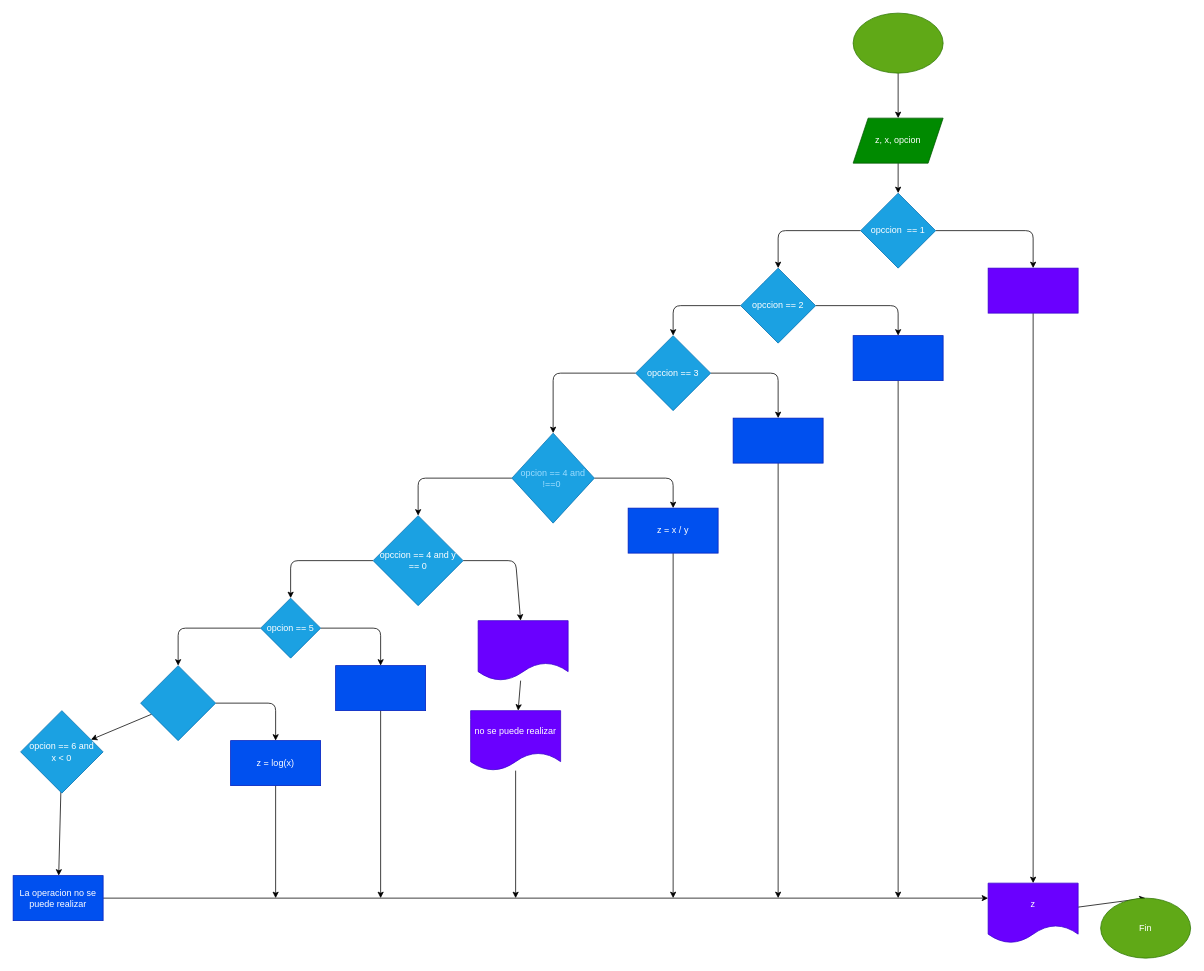
Some shapes in this 1204 by 971 pixel diagram are drawn without their labels. Here are the shapes that lost their labels. From the top down, the centre of each, then its label:
At (897,42): "inicio".
At (1032,290): "z = x + y".
At (897,358): "z = x - y".
At (777,440): "z = x * y".
At (522,650): "El numerador es igual a 0 y".
At (178,703): "opcion == 6 and x > 0".
At (380,688): "z = pow (x, y)".
